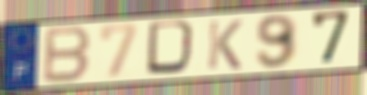7: (97, 21, 144, 82), (310, 9, 351, 68)
9: (253, 12, 302, 71)
B: (40, 25, 94, 86)
D: (144, 18, 202, 77)
K: (205, 18, 245, 71)
